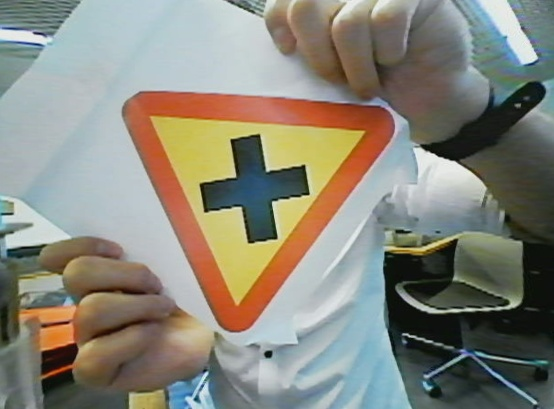junction: (117, 82, 401, 351)
